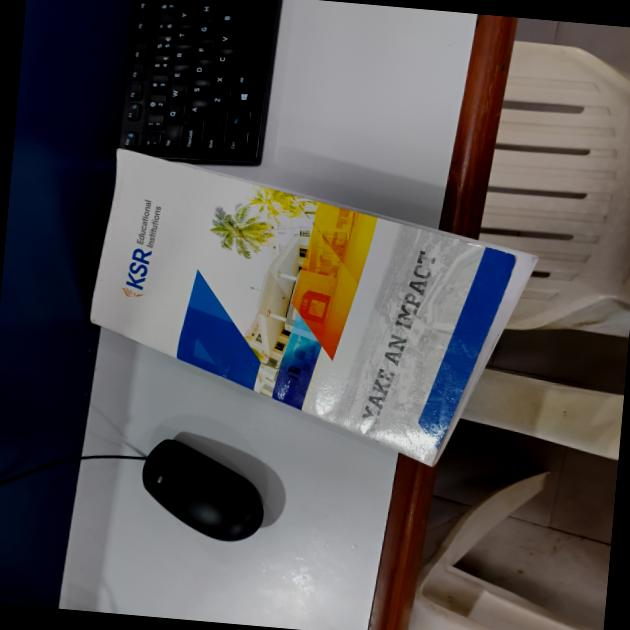keyboard: (104, 0, 304, 159)
mouse: (113, 436, 281, 544)
notebook: (75, 134, 542, 463)
